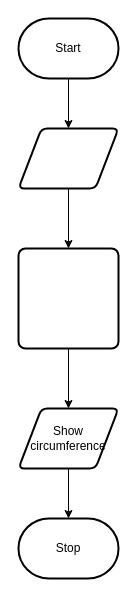
This 136x596 diagram has some shape labels left out. Here are the shapes that lost their labels. From the top down, the box of each, then its label:
(17, 127, 119, 189): Get radius
(17, 247, 119, 349): Circumference= τr
